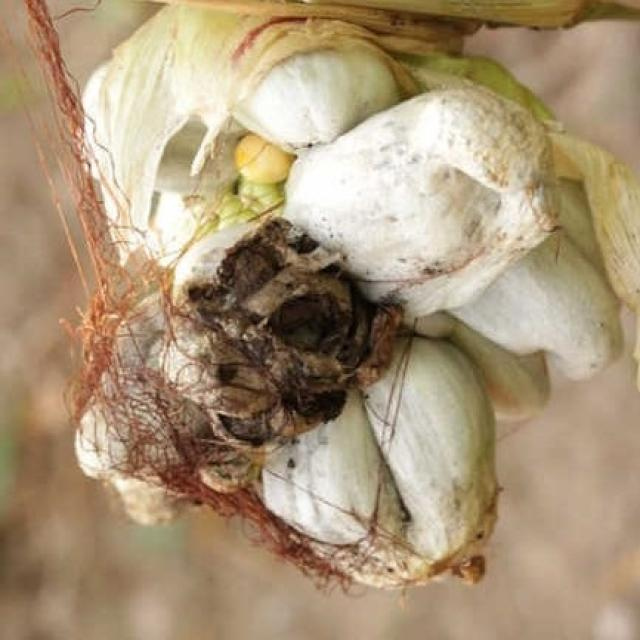Leaf_Scald: (23, 5, 640, 612)
